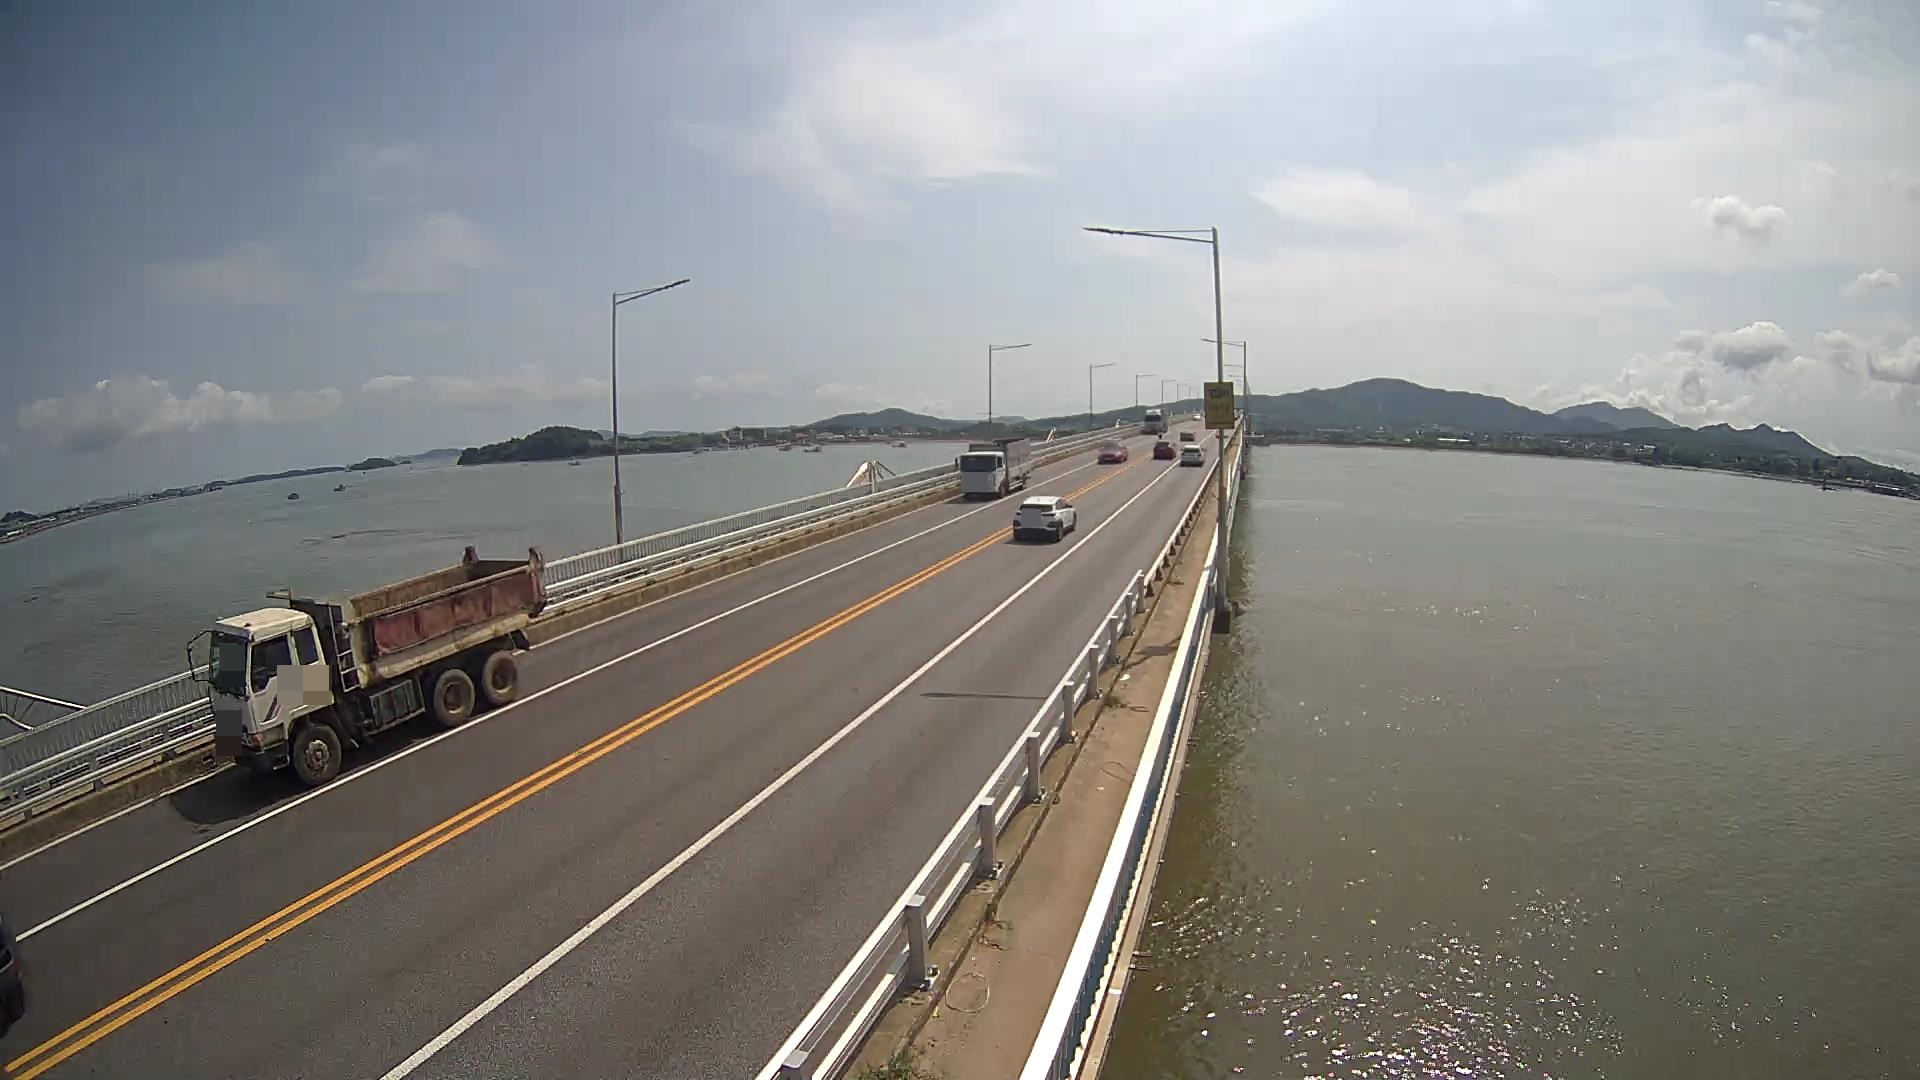정상차량: (186, 546, 549, 786)
